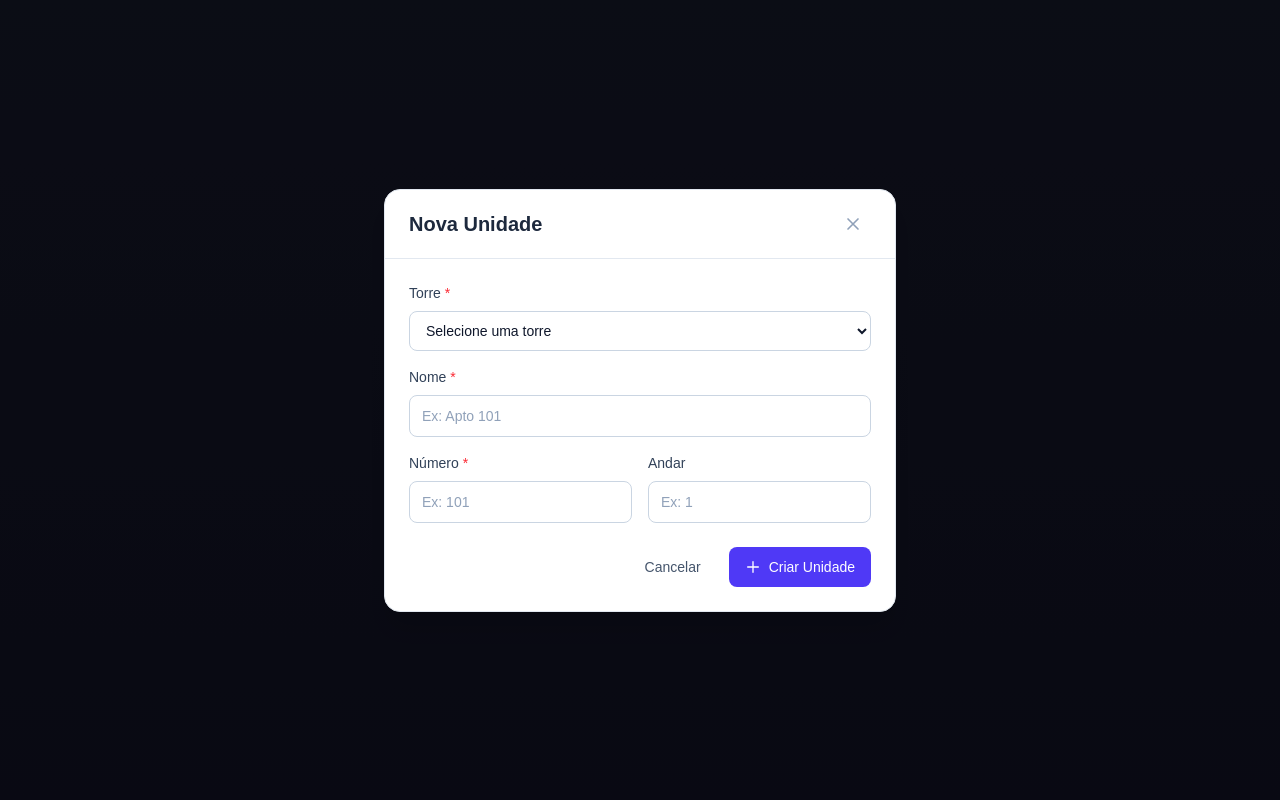
Test: CreateUnitModal › deve exibir erro quando a criação falha
This screenshot has width=1280, height=800.
Select "Torre A" in the dropdown at [640, 330], box [409, 310, 871, 350]
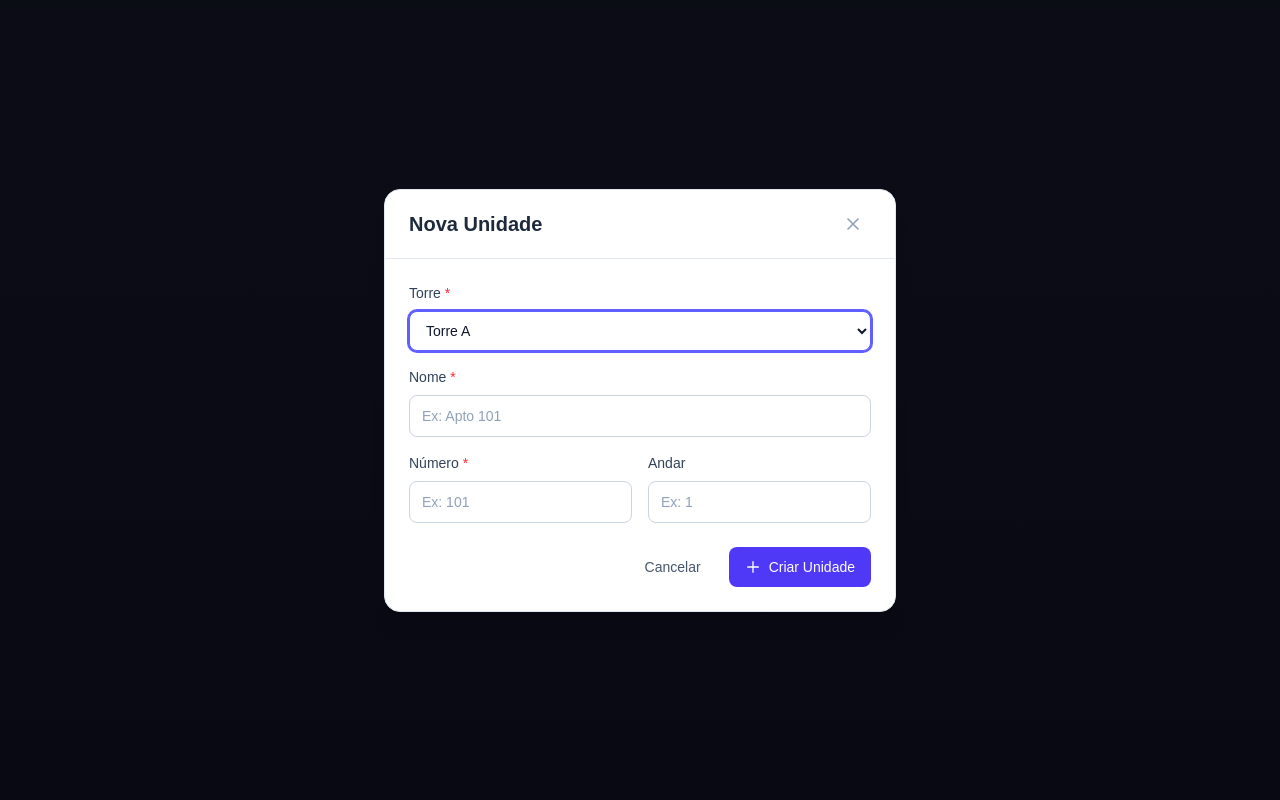
Type "Apto 101" into the field with placeholder "Ex: Apto 101".
click(640, 416); type("Apto 101")  # box [409, 394, 871, 436]
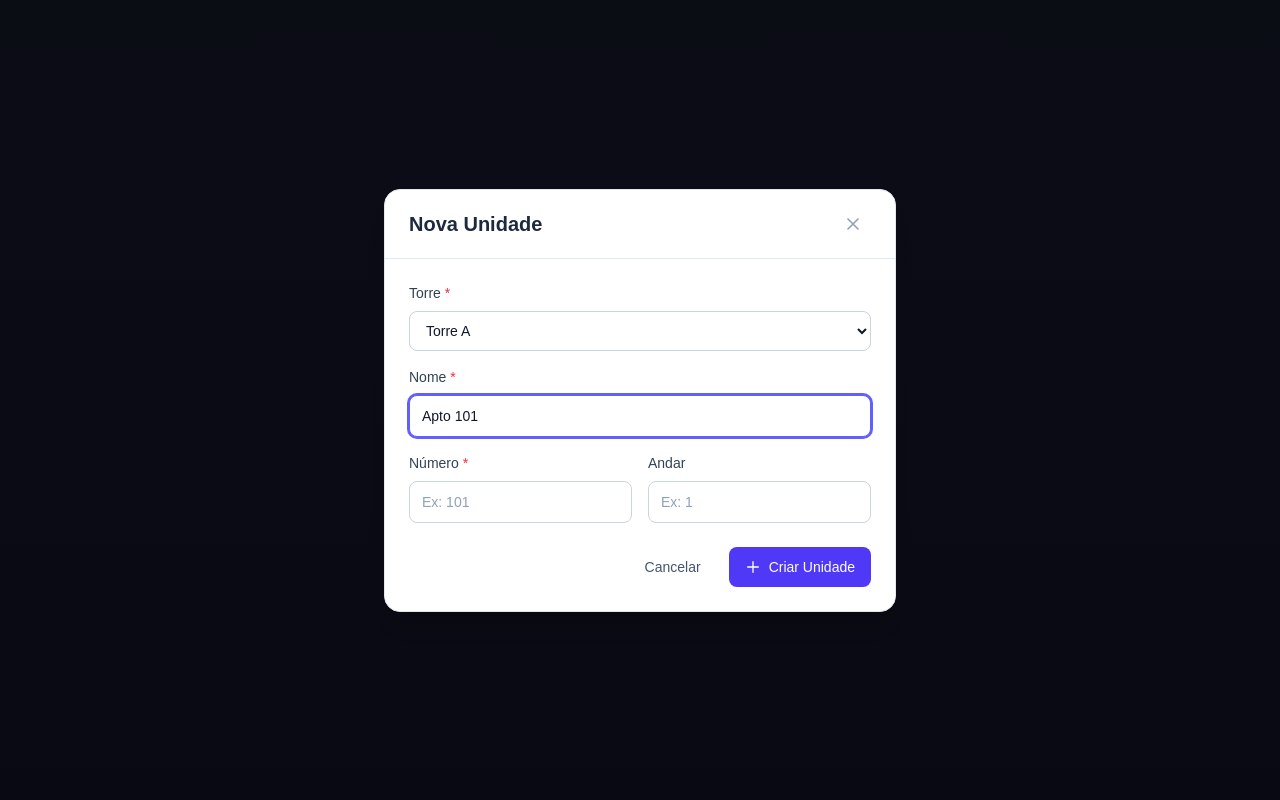
Type "101" into the number field with placeholder "Ex: 101".
click(520, 502); type("101")  # box [409, 480, 632, 522]
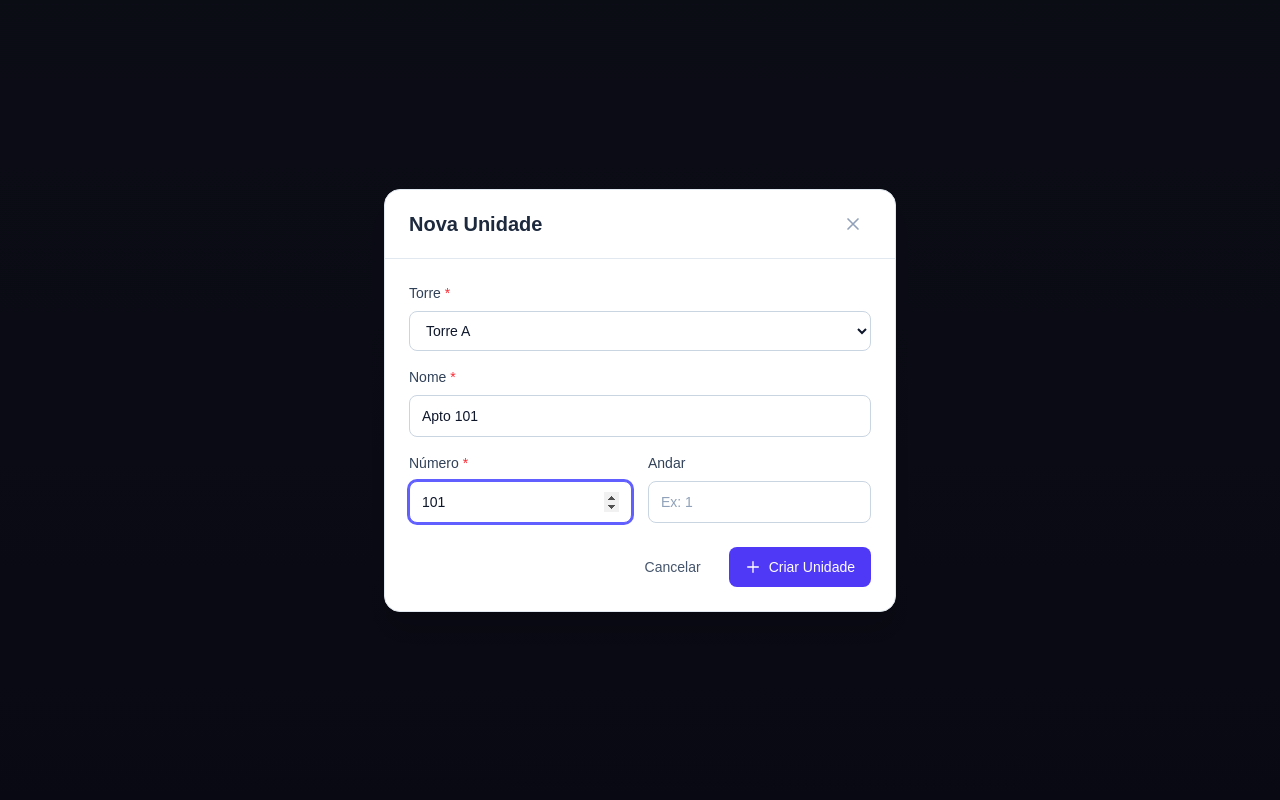
Click the button "Criar Unidade".
click(800, 566)  # box [729, 546, 871, 586]
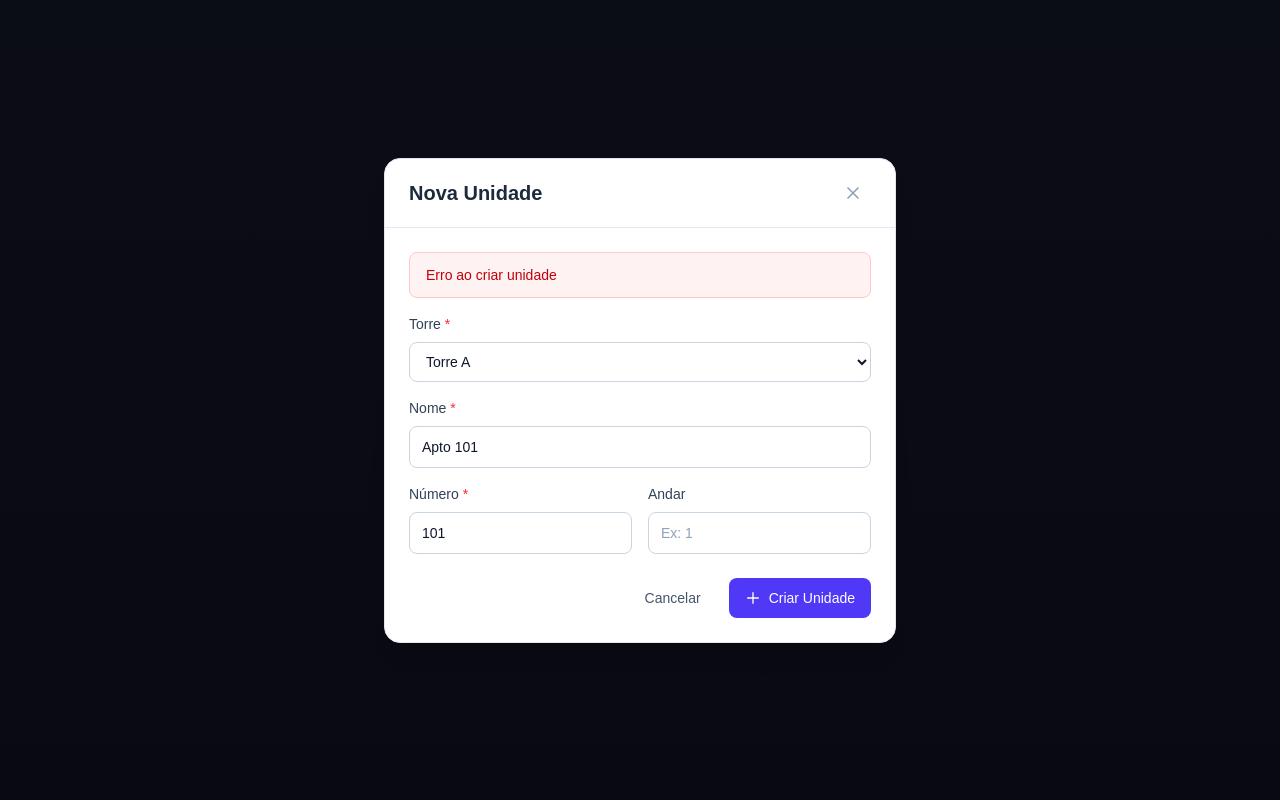
Check: the text "Erro ao criar unidade" is shown, box [409, 252, 871, 298]
